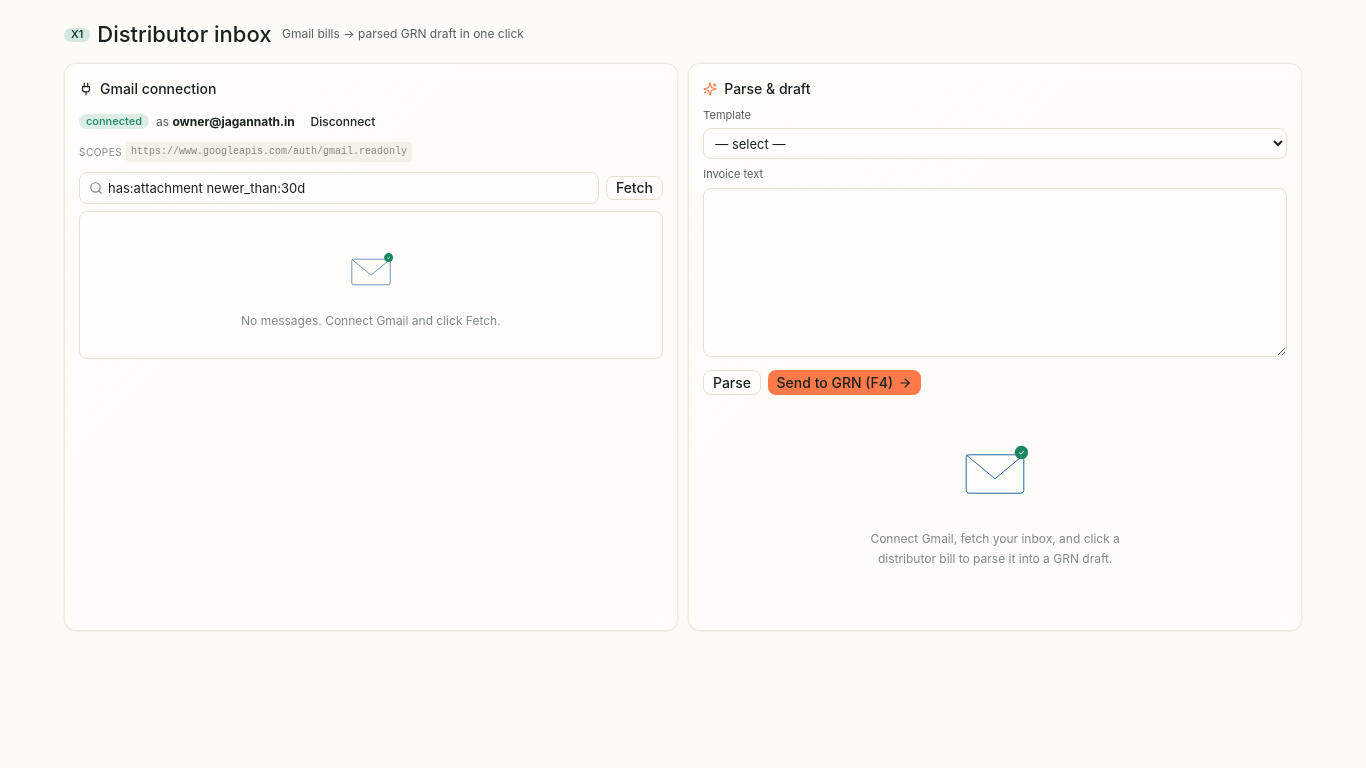
Test case: GmailInboxScreen — G07 X1 moat surface › Send to GRN is disabled until parsed.lines.length > 0
The width and height of the screenshot is (1366, 768).
Expected: the element with test id "gmail-status-connected" is shown, [156,112,295,131]
Expected: the button with test id "gmail-send-grn" is disabled, [768,370,921,395]
Step 1. Select "Cipla CSV v1" in the dropdown with test id "gmail-template" → (995,144), box [703,128,1287,160]
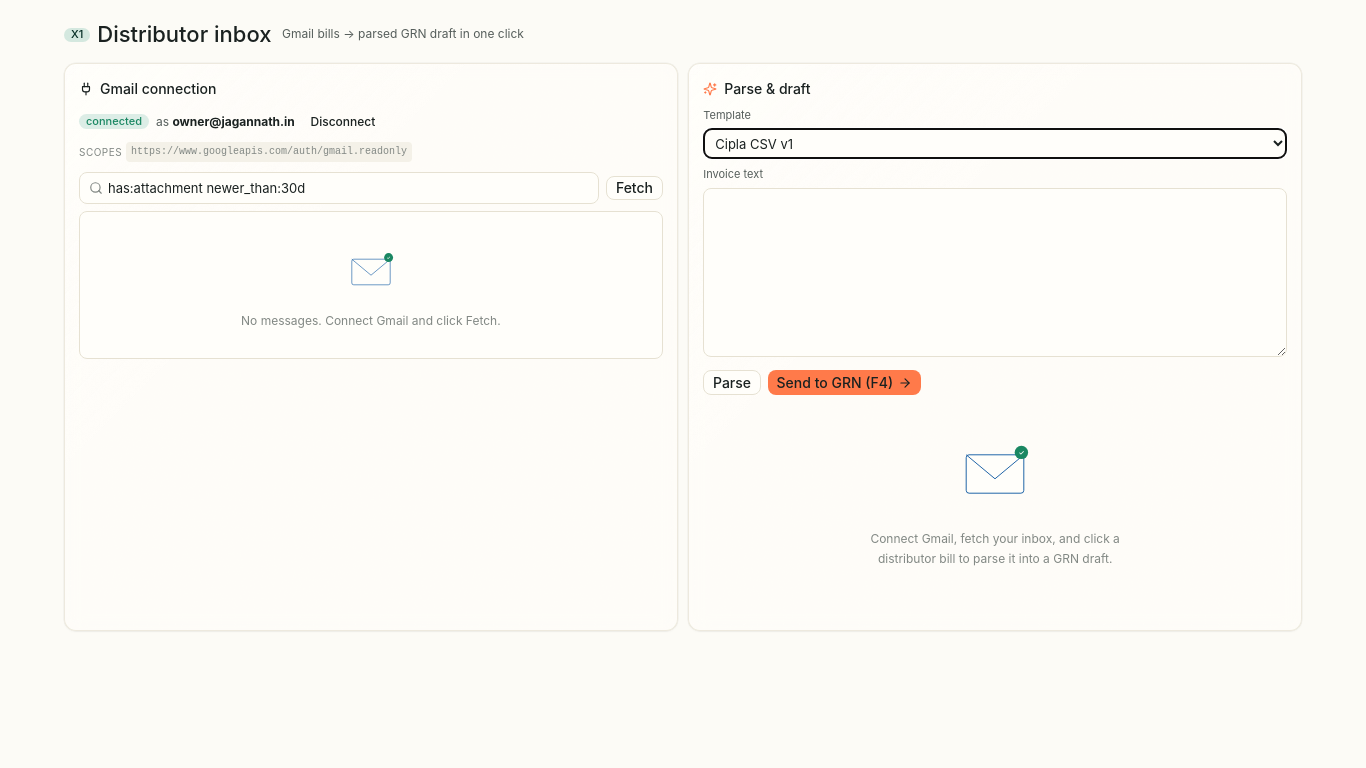
Step 2. Type "anything" into the text box with test id "gmail-sample" → (995,272), box [703,188,1287,357]
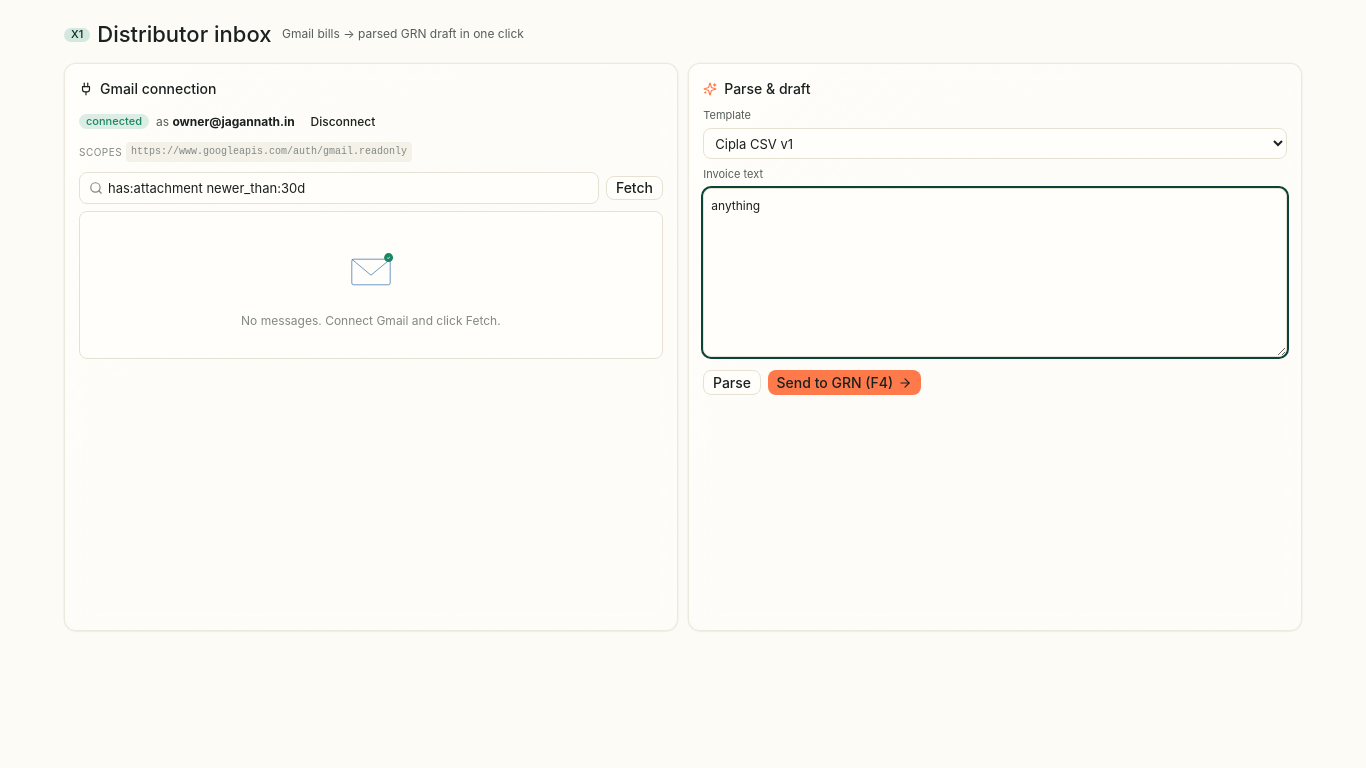
Step 3. Click the button with test id "gmail-parse" → (732,383), box [703,370,761,395]
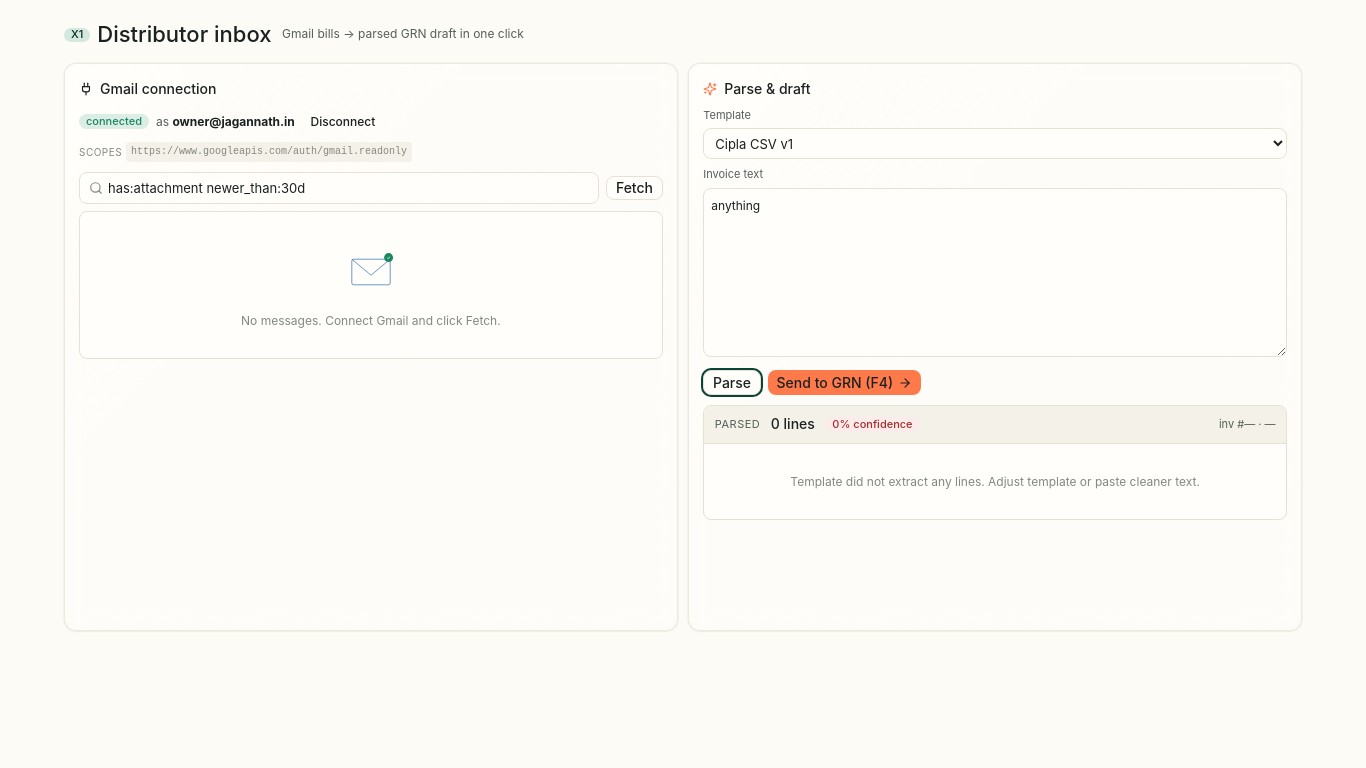
Expected: the button with test id "gmail-send-grn" is disabled, [768,370,921,395]
Result: the element with test id "gmail-parsed" is shown at [703,406,1287,520]
